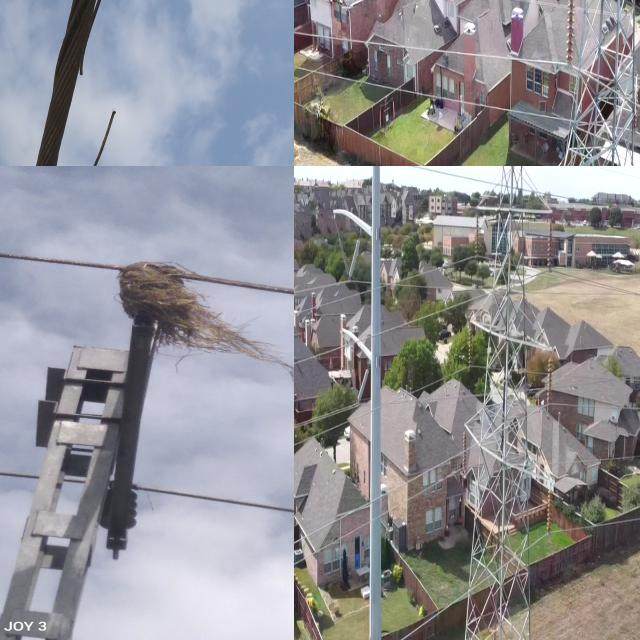杆塔: (452, 166, 543, 640), (562, 0, 640, 166)
植被遮挡: (59, 251, 294, 386)
正常电缆: (294, 267, 550, 365), (294, 57, 563, 131), (294, 440, 479, 545), (294, 465, 465, 567), (294, 364, 469, 448), (294, 253, 478, 317), (294, 26, 552, 71), (397, 588, 468, 640), (551, 514, 640, 536)
正常绝缘子: (565, 0, 577, 72), (347, 238, 362, 282), (338, 238, 351, 280), (356, 367, 370, 404), (347, 359, 359, 402), (546, 352, 554, 412), (546, 216, 554, 272), (546, 486, 553, 536), (462, 428, 468, 474), (474, 217, 480, 260), (468, 327, 473, 369)
电缆破损: (13, 0, 150, 166)
